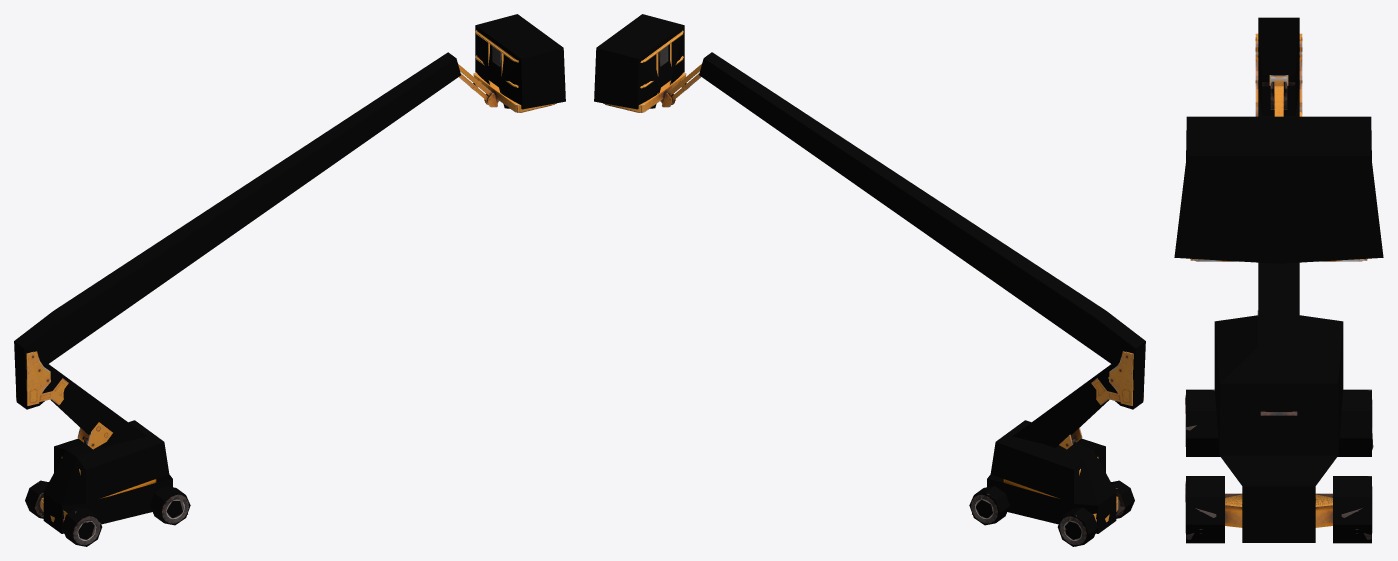
File: boom_lift1.dae
The picture shows the model from 3 angles, left to right: view 1: azimuth 30°, elevation 25°; view 2: azimuth 150°, elevation 25°; view 3: azimuth 270°, elevation 25°; orthographic projection. The views are drawn at different scales.
Visible parts, largest first — view 1: Colmesh-1, boom_lift1_a400, boom_lift1_a200, boom_lift1_a100; view 2: Colmesh-1, boom_lift1_a400, boom_lift1_a200; view 3: Colmesh-1, boom_lift1_a400, boom_lift1_a200, boom_lift1_a100.
Boxes of the visible parts, x1,y1,x2,y2 form: Colmesh-1: [14, 14, 565, 546]; boom_lift1_a400: [28, 31, 554, 544]; boom_lift1_a200: [31, 31, 556, 545]; boom_lift1_a100: [16, 30, 518, 539]; Colmesh-1: [594, 14, 1145, 546]; boom_lift1_a400: [605, 32, 1131, 544]; boom_lift1_a200: [603, 31, 1131, 544]; Colmesh-1: [1174, 17, 1383, 543]; boom_lift1_a400: [1185, 36, 1372, 533]; boom_lift1_a200: [1190, 35, 1372, 529]; boom_lift1_a100: [1185, 33, 1373, 539].
Bounding box in the file's own units: 15.45 × 2.67 × 10.8.
